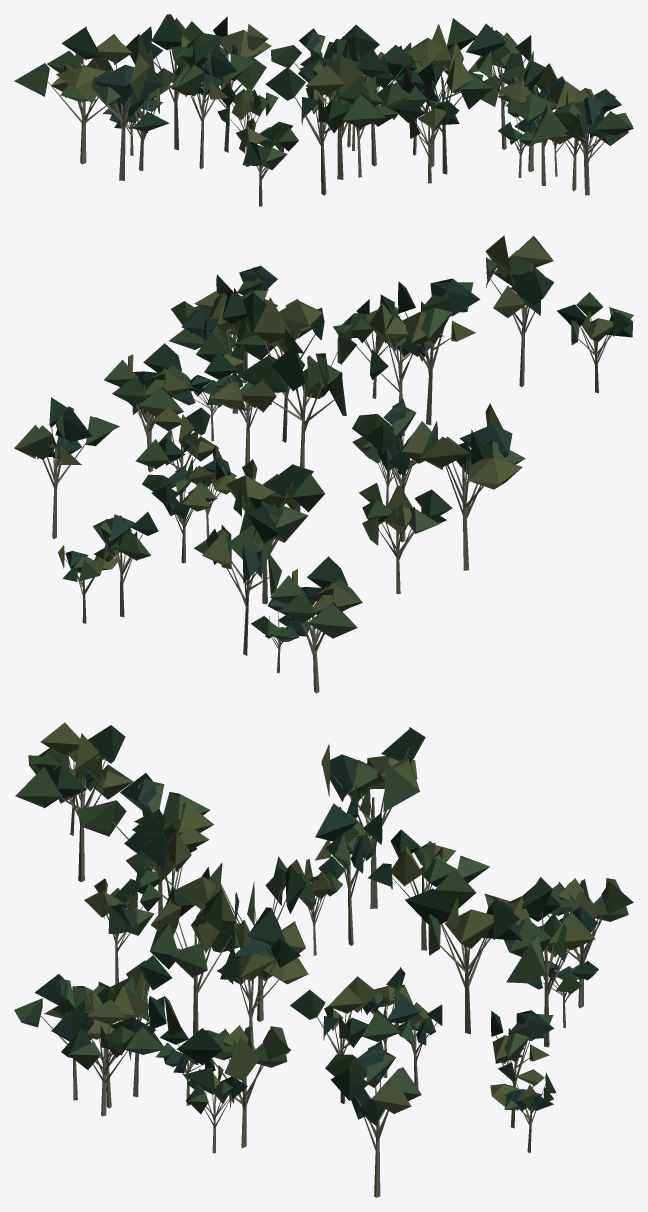
The model's file is forest_20_25.dae.
3 views of the same model, one above another, from view 1: azimuth 30°, elevation 25°; view 2: azimuth 150°, elevation 25°; view 3: azimuth 270°, elevation 25° (orthographic). The views are drawn at different scales.
Visible parts, largest first — view 1: Node; view 2: Node; view 3: Node.
Part boxes in pixels (x1,y1,x2,y2): Node: (14,14,633,206); Node: (14,235,633,693); Node: (14,722,633,1197).
Size of the model in its own units: 11.29 by 11.54 by 6.34.
